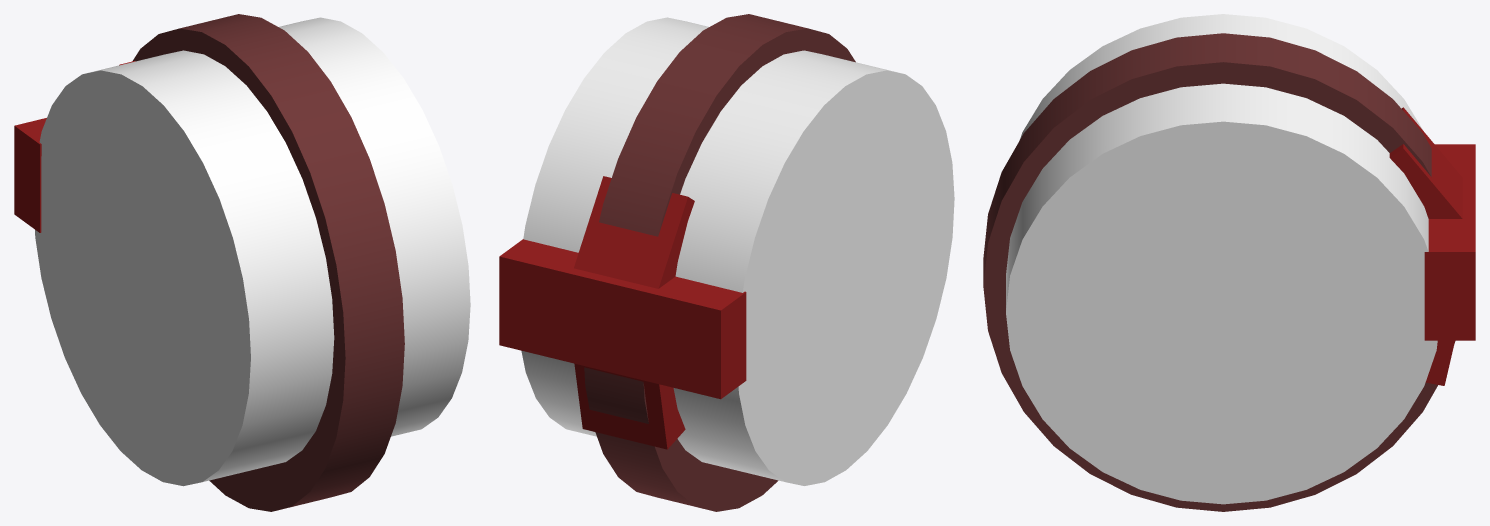
The model's file is bandages.glb.
3 views of the same model, side by side, from view 1: azimuth 30°, elevation 25°; view 2: azimuth 150°, elevation 25°; view 3: azimuth 270°, elevation 25° (orthographic).
Visible parts, largest first — view 1: Cylinder (×2), Box; view 2: Cylinder (×2), Box (×5); view 3: Cylinder (×2), Box (×5).
Boxes of the visible parts, x1,y1,x2,y2 form: Cylinder (×2): [35, 14, 470, 511]; Box: [14, 118, 46, 232]; Cylinder (×2): [521, 14, 954, 511]; Box (×5): [499, 176, 746, 449]; Cylinder (×2): [983, 14, 1455, 511]; Box (×5): [1389, 107, 1475, 385].
Size of the model in its own units: 0.7081 by 1.38 by 1.36.
